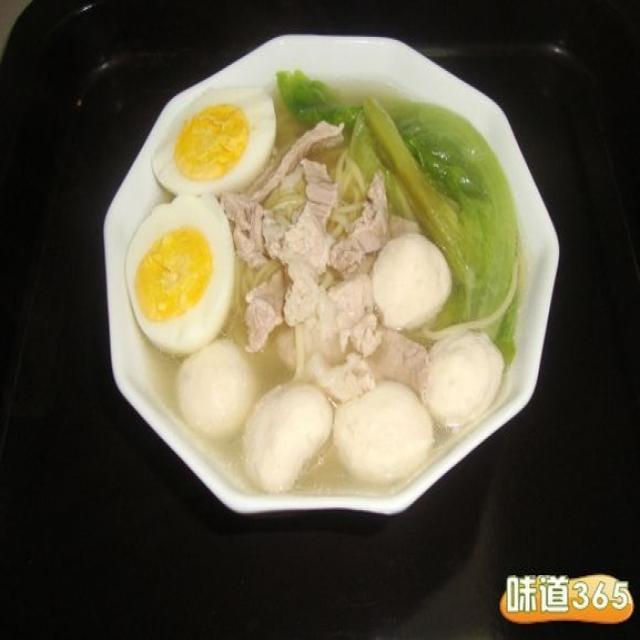面条主食: (162, 84, 497, 472)
